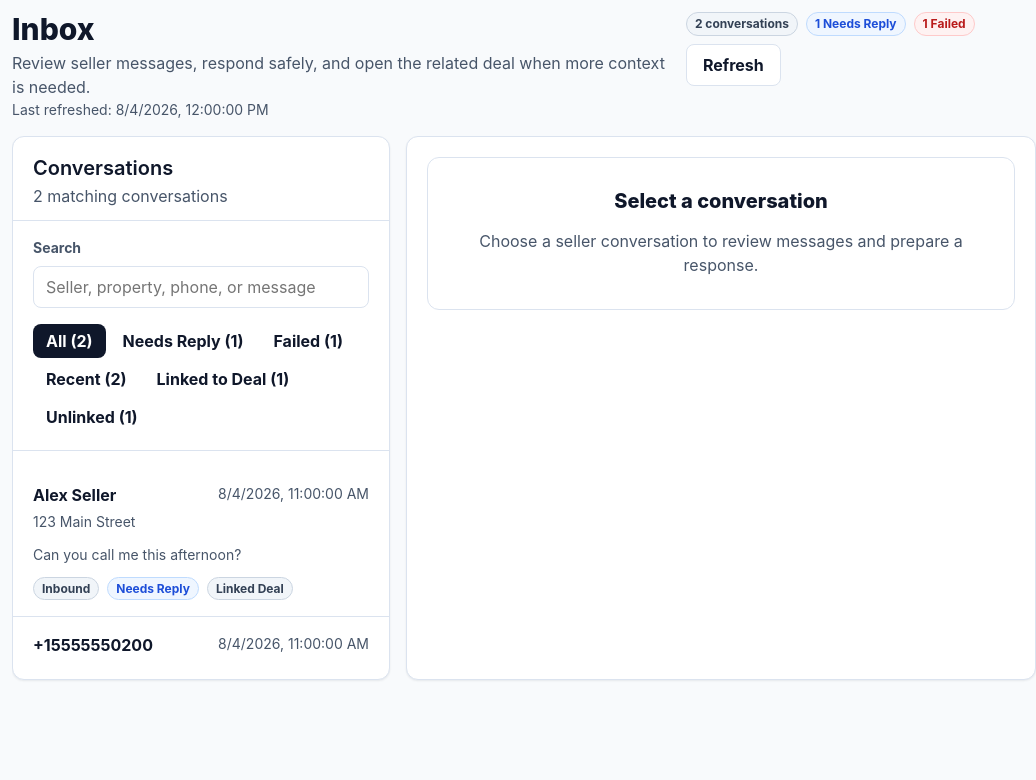
it: InboxWorkspace states and navigation › searches and filters the bounded conversation list with keyboard-reachable rows
Type "Main" into the search field named "Search conversations". click: {"x": 201, "y": 286}
box: [33,266,369,308]
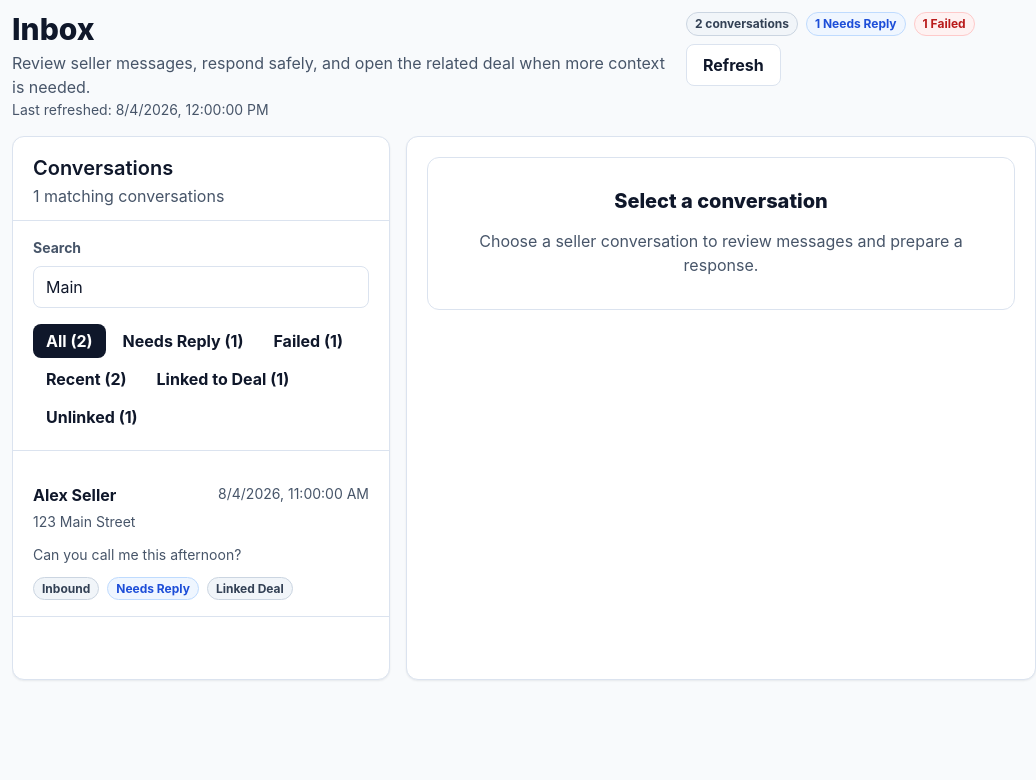
Expected: the text "Alex Seller" is shown, [33,484,116,504]
Expected: the text "Follow-up attempt" is not shown
Clear the search field named "Search conversations". click: {"x": 201, "y": 286}
box: [33,266,369,308]
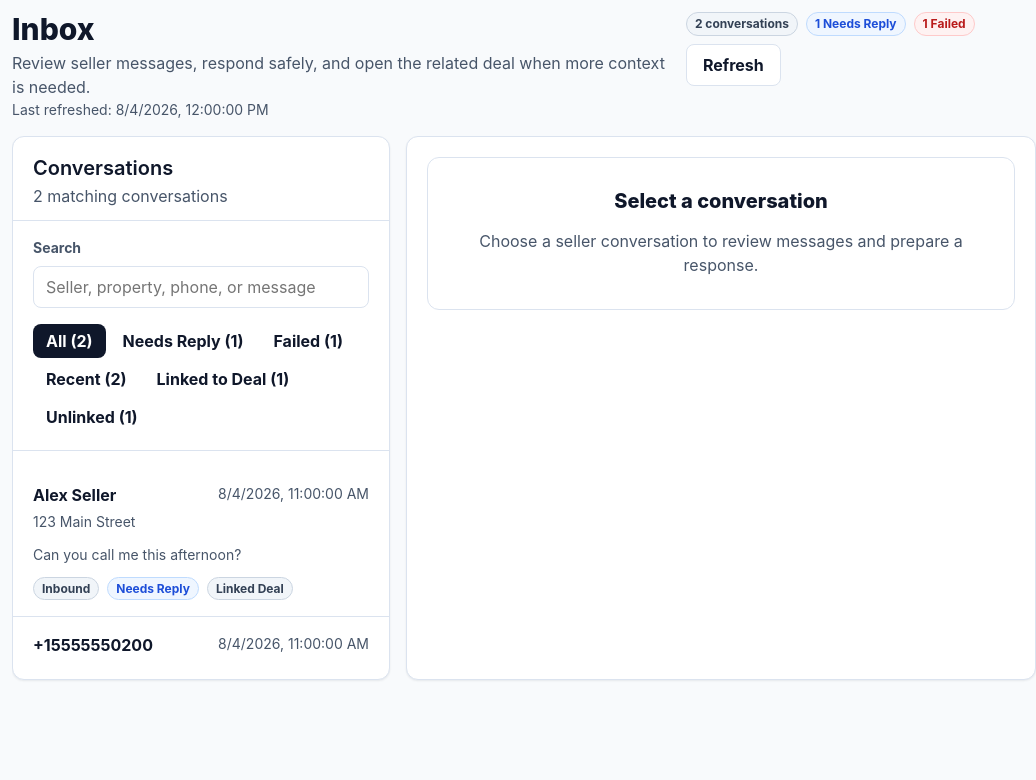
Click the button "Failed (1)". click: {"x": 308, "y": 340}
box: [260,324,356,358]
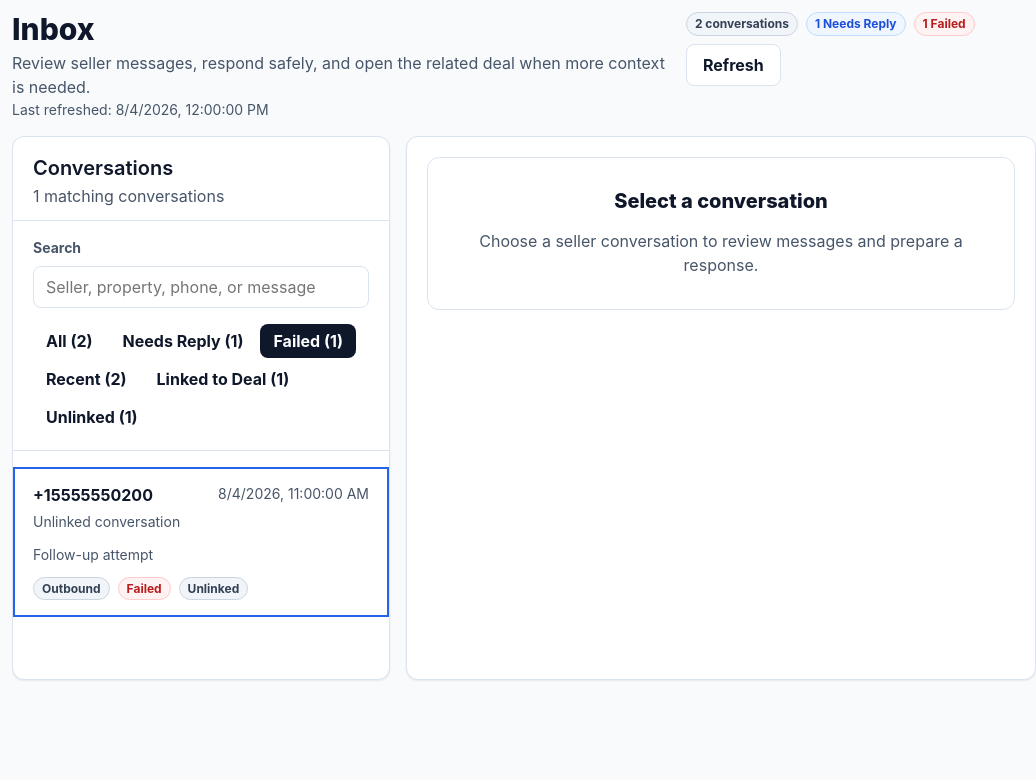
Now the text "Follow-up attempt" is shown, box [33,546,153,562]
Now the button "Alex Seller" is gone
